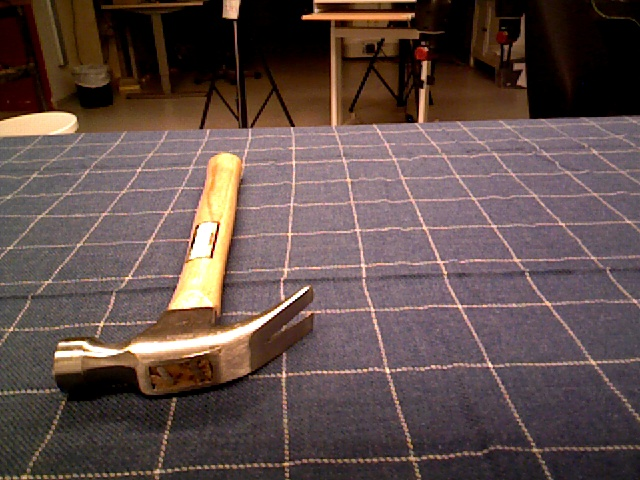hammer1: (47, 150, 315, 407)
